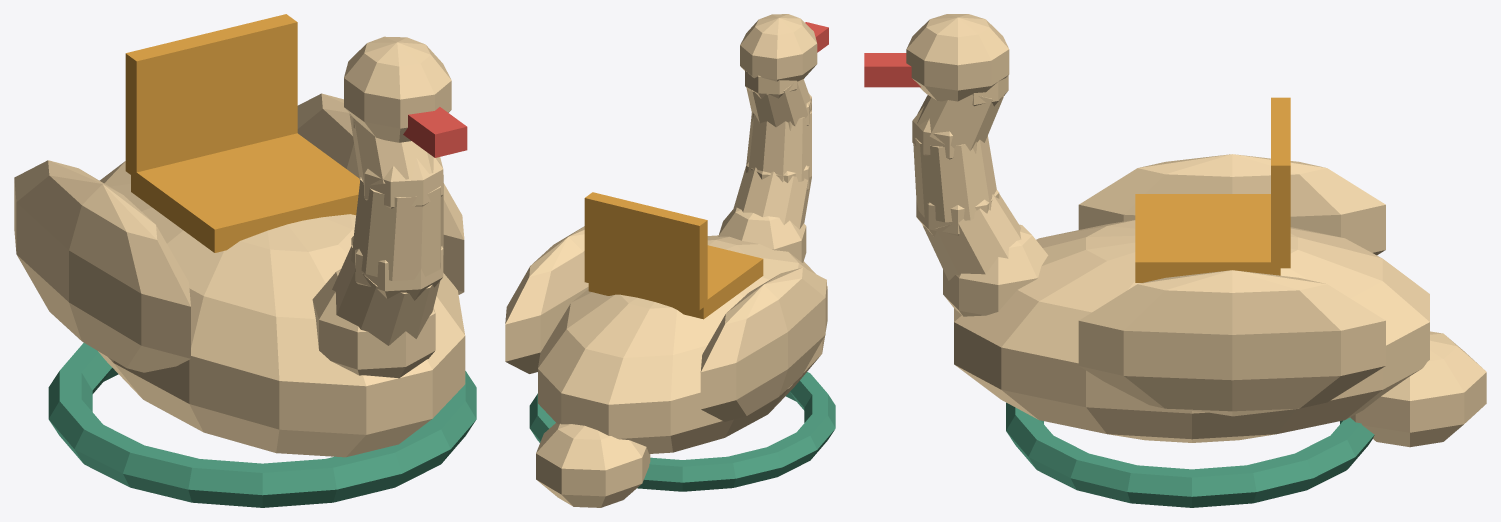
Rendered from ParkParkSwanV2.obj.
3 views of the same model, side by side, from view 1: azimuth 30°, elevation 25°; view 2: azimuth 150°, elevation 25°; view 3: azimuth 270°, elevation 25° (orthographic). The views are drawn at different scales.
Visible parts, largest first — view 1: ParkParkSwanV2; view 2: ParkParkSwanV2; view 3: ParkParkSwanV2.
Part boxes in pixels (x1=…): ParkParkSwanV2: x1=14, y1=14, x2=476, y2=507; ParkParkSwanV2: x1=505, y1=14, x2=835, y2=507; ParkParkSwanV2: x1=864, y1=14, x2=1486, y2=507.
Size of the model in its own units: 2.34 by 2.88 by 3.86.
